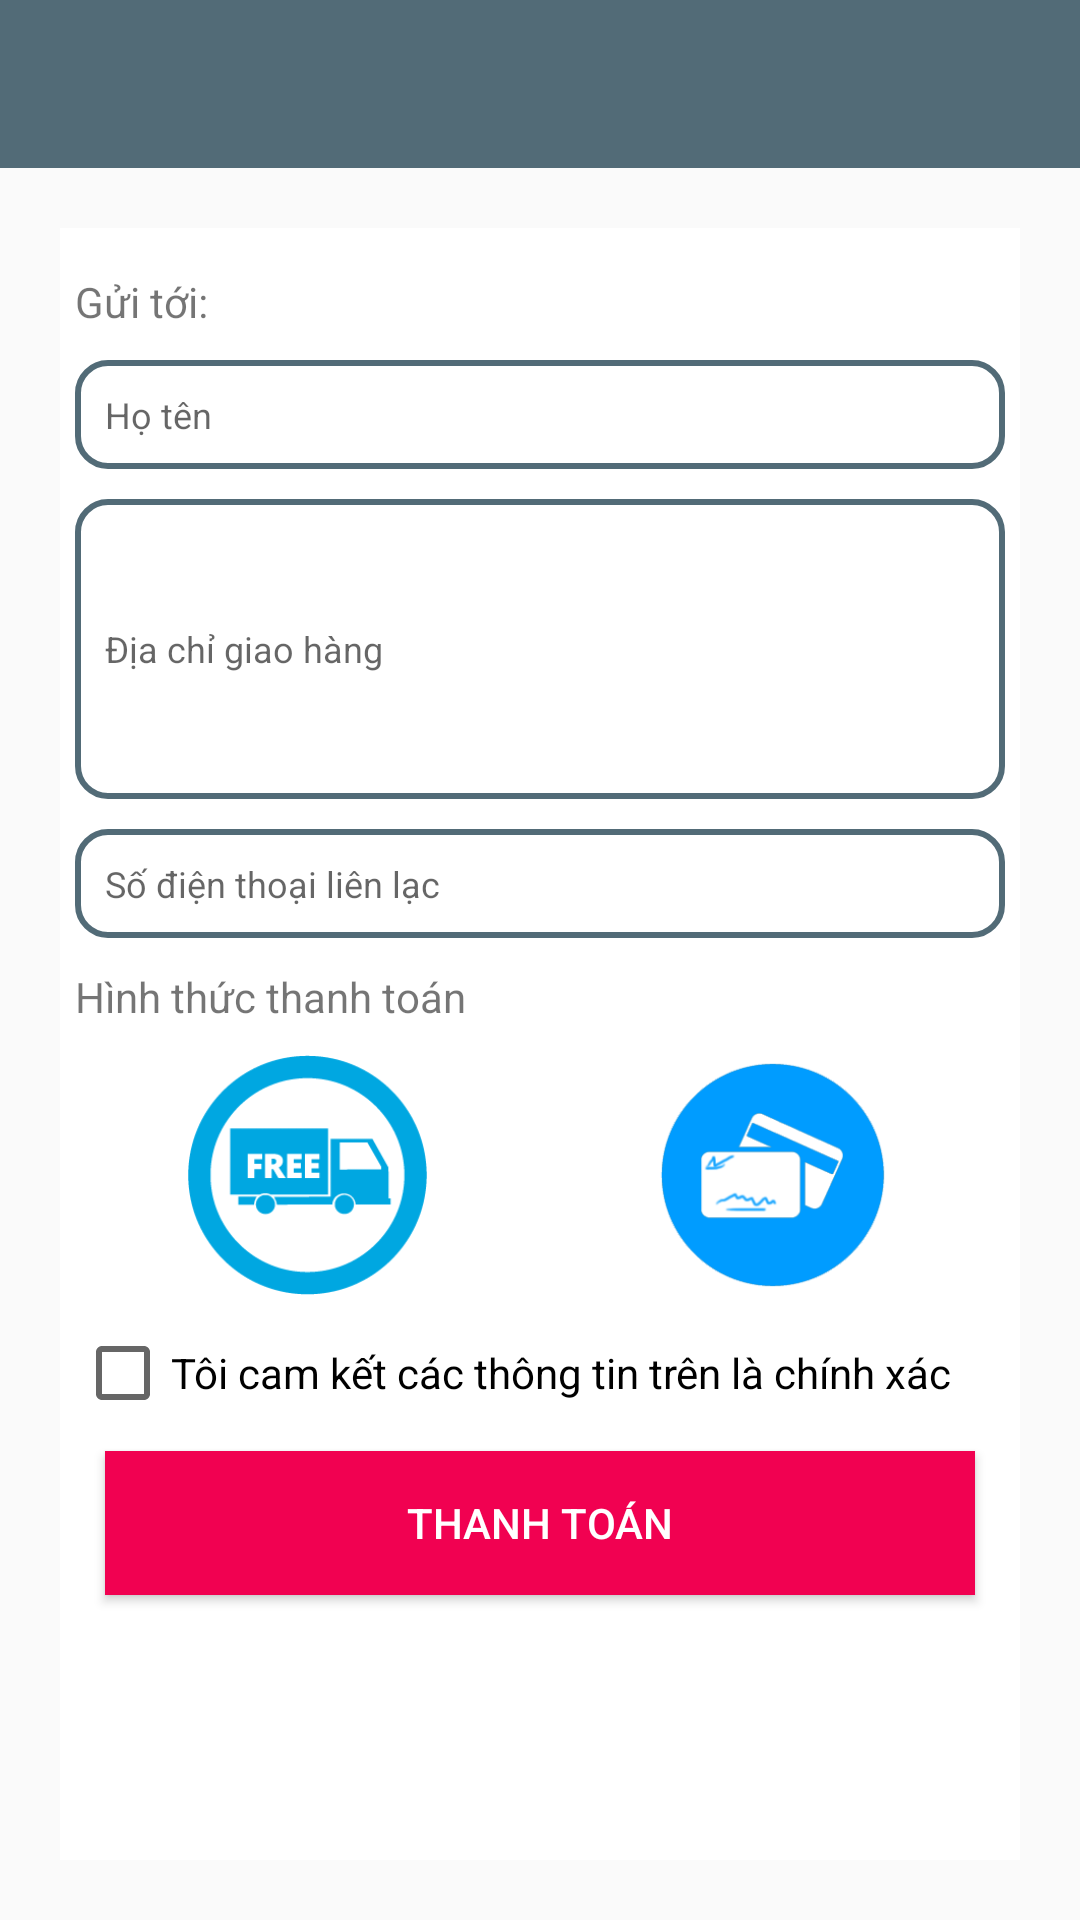

Locate icon controls on the screen. Image size 1080w x 1920h, boxes as bbox=[x1, y1, x2, y2].
deliver: bbox=[188, 1055, 427, 1295]
thanhtoan: bbox=[661, 1063, 885, 1287]
